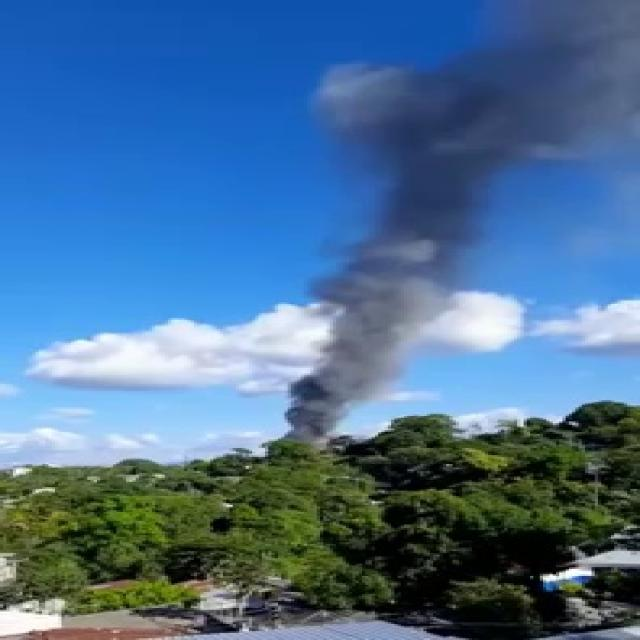Smoke: (224, 4, 622, 444)
